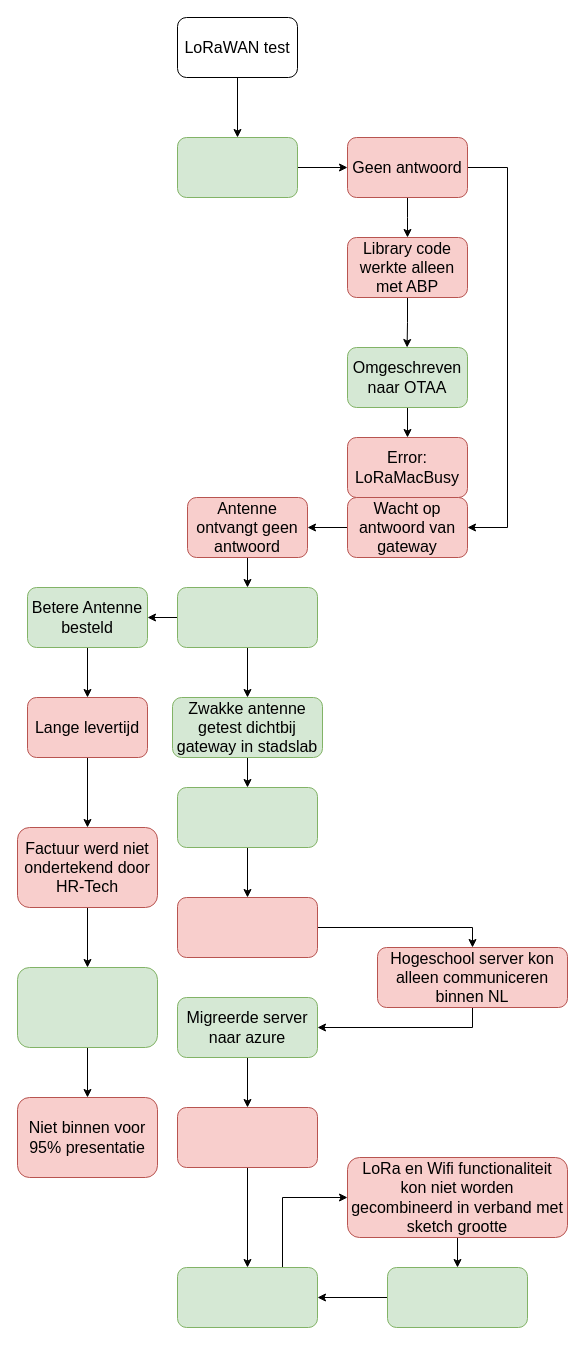
This 585x1345 diagram has some shape labels left out. The centre of each missing label's shape, as x and y in pixels:
"Andere website gebruikt voor bestellen" belongs at point (87, 1007).
"Aparte app gemaakt voor wifi functionaliteit" belongs at point (457, 1297).
"Berichten Ontvangen bij gateway" belongs at point (237, 167).
"Hypothese getest met geleende Antenne" belongs at point (247, 617).
"LoRa verbinding lukte niet meer in stadslab" belongs at point (247, 1137).
"TTN kon geen verbining maken met de server" belongs at point (247, 927).
"Verbinding lukte" belongs at point (247, 817).
"WiFi voor testen app" belongs at point (247, 1297).
